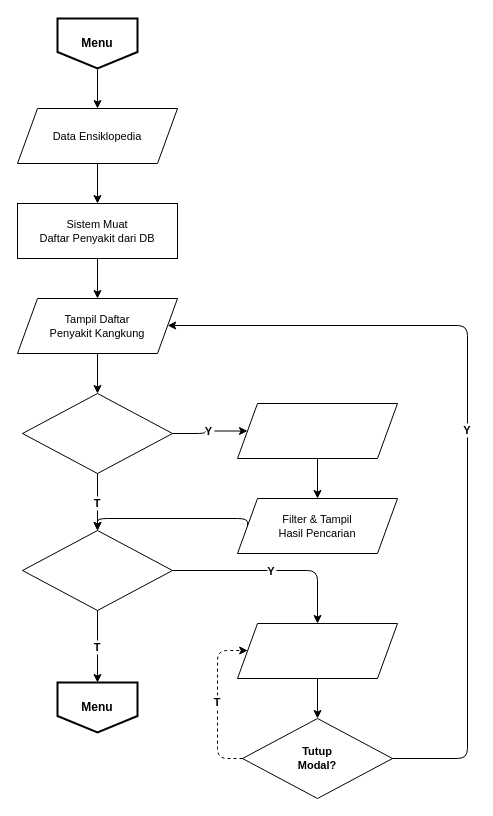
The diagram is 493 pixels wide and 816 high, and some of its shapes have lost their labels. Each missing label, with the box of its shape:
Input Kata Kunci Pencarian: (236, 402, 398, 458)
Lihat Detail Penyakit?: (22, 530, 172, 610)
Pencarian Penyakit?: (22, 392, 172, 474)
Tampil Modal Detail Penyakit: (236, 622, 398, 678)
